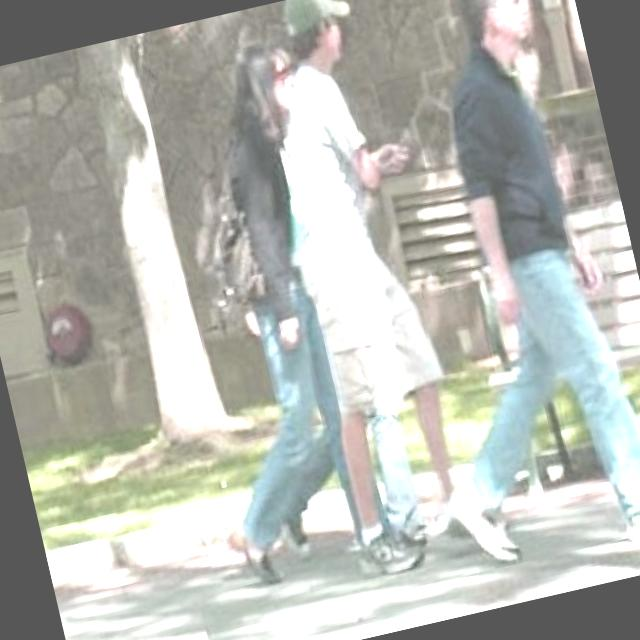Person: (331, 0, 640, 586), (115, 13, 424, 598), (227, 0, 493, 585)
